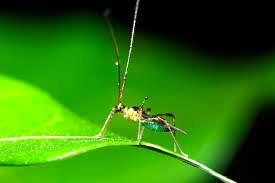Helopeltis-insect: (115, 95, 175, 138)
